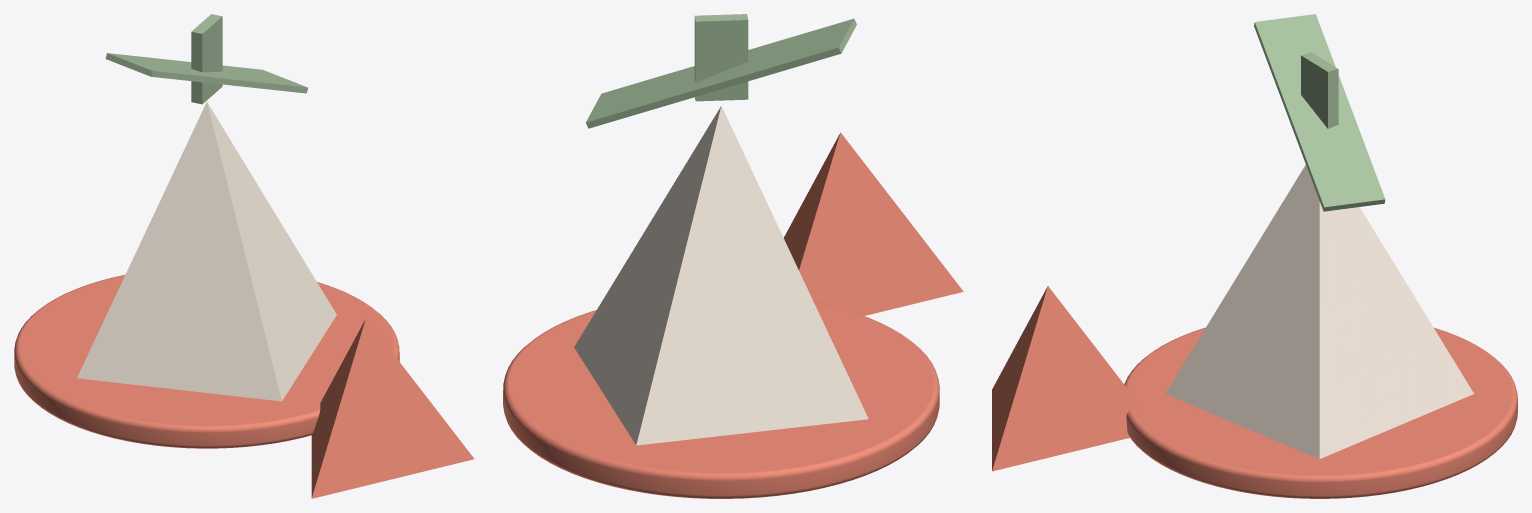
The model's file is theme_05.glb.
3 renders of one model, left to right at view 1: azimuth 30°, elevation 25°; view 2: azimuth 150°, elevation 25°; view 3: azimuth 270°, elevation 25°, orthographic. The views are drawn at different scales.
Parts seen in each view (by area): view 1: theme_05; view 2: theme_05; view 3: theme_05.
Part boxes in pixels (x1,y1,x2,y2): theme_05: (14, 14, 474, 498); theme_05: (503, 14, 963, 498); theme_05: (992, 14, 1517, 498).
Size of the model in its own units: 1.24 by 1.23 by 1.64.
